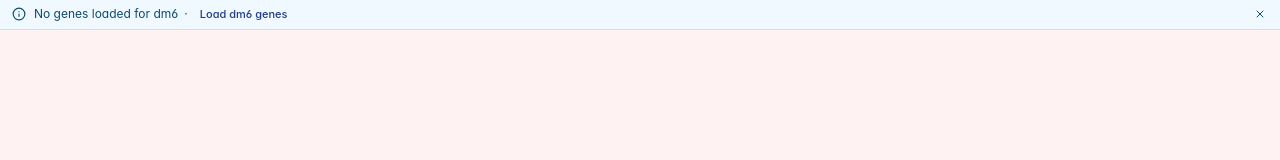
Scenario: genes prompt notice › shows under the banner without a Genes track, loads in one click, and retries after a failure
Later steps or results of the test are not shown.
Expected: the text "No genes loaded for dm6" is shown, [34, 5, 178, 23]
Click the button "Load dm6 genes" at (244, 14), box [194, 4, 294, 24]
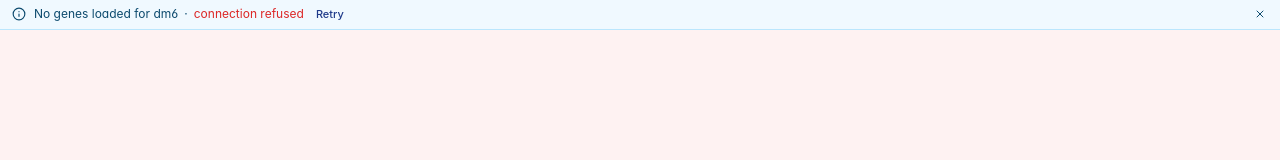
Expected: the message "connection refused" is shown, [194, 5, 304, 23]
